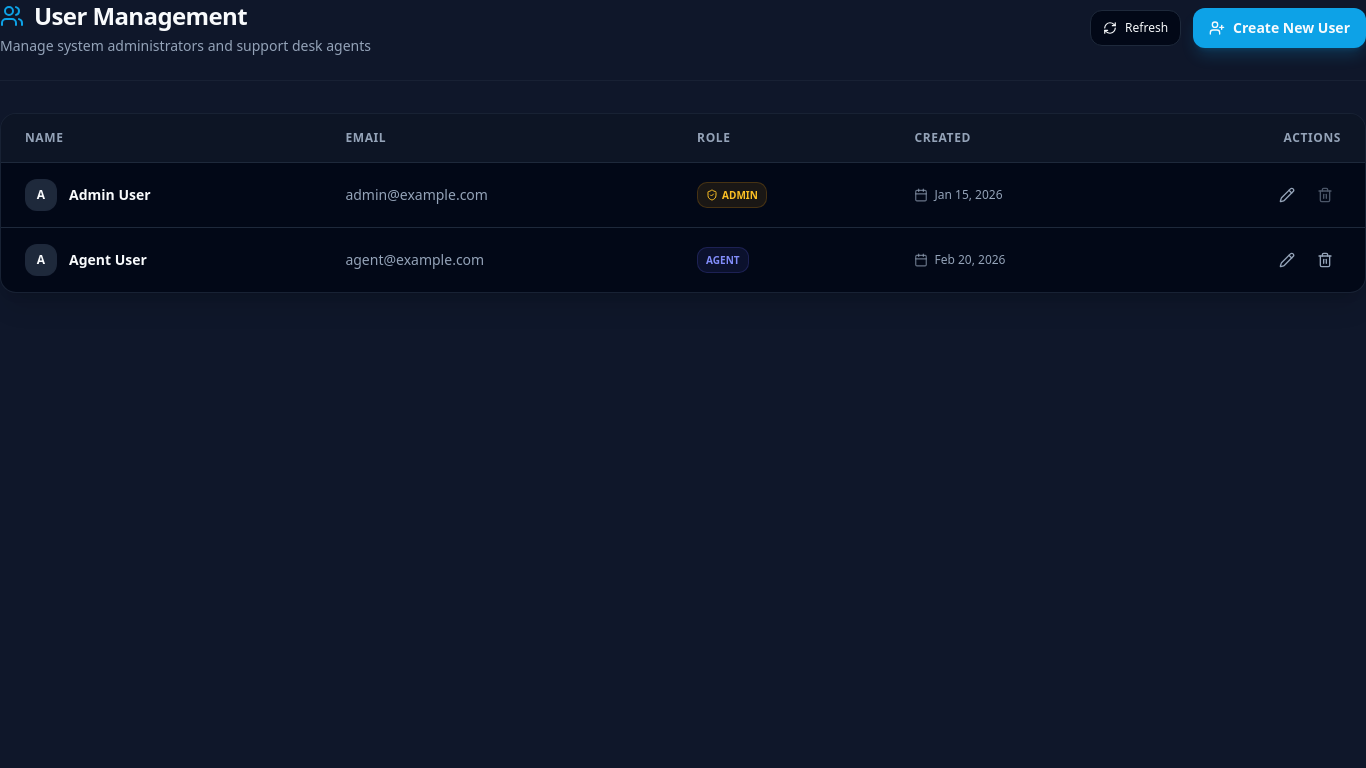
Test: UsersPage Component › should dismiss the dialog when clicking the X close button
This screenshot has width=1366, height=768.
// Open dialog
Click the button "Create New User" at [1280, 28], box [1193,8,1365,48]
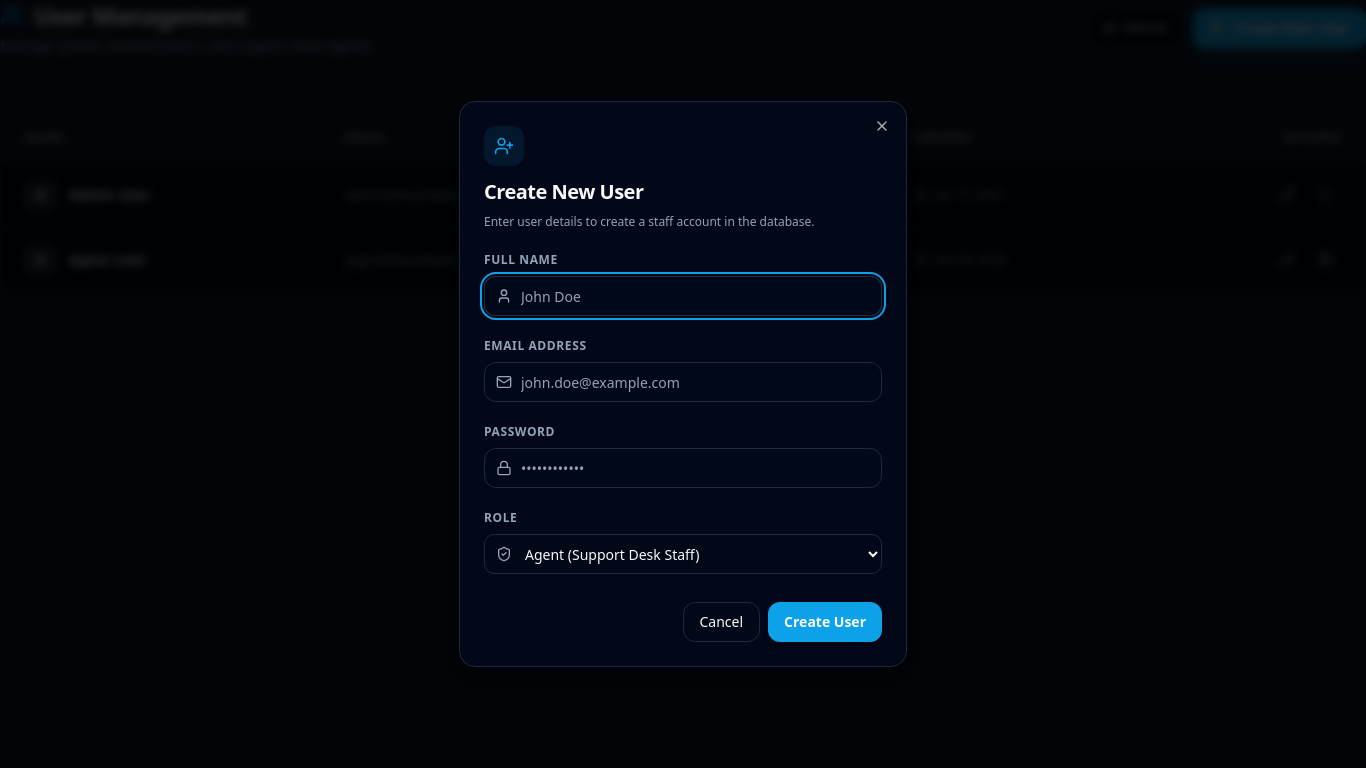
Expected: the dialog is shown, [459,101,907,667]
// Click the X / Close button (accessible name "Close")
Click the button named "close" at [882, 126], box [874,118,890,134]
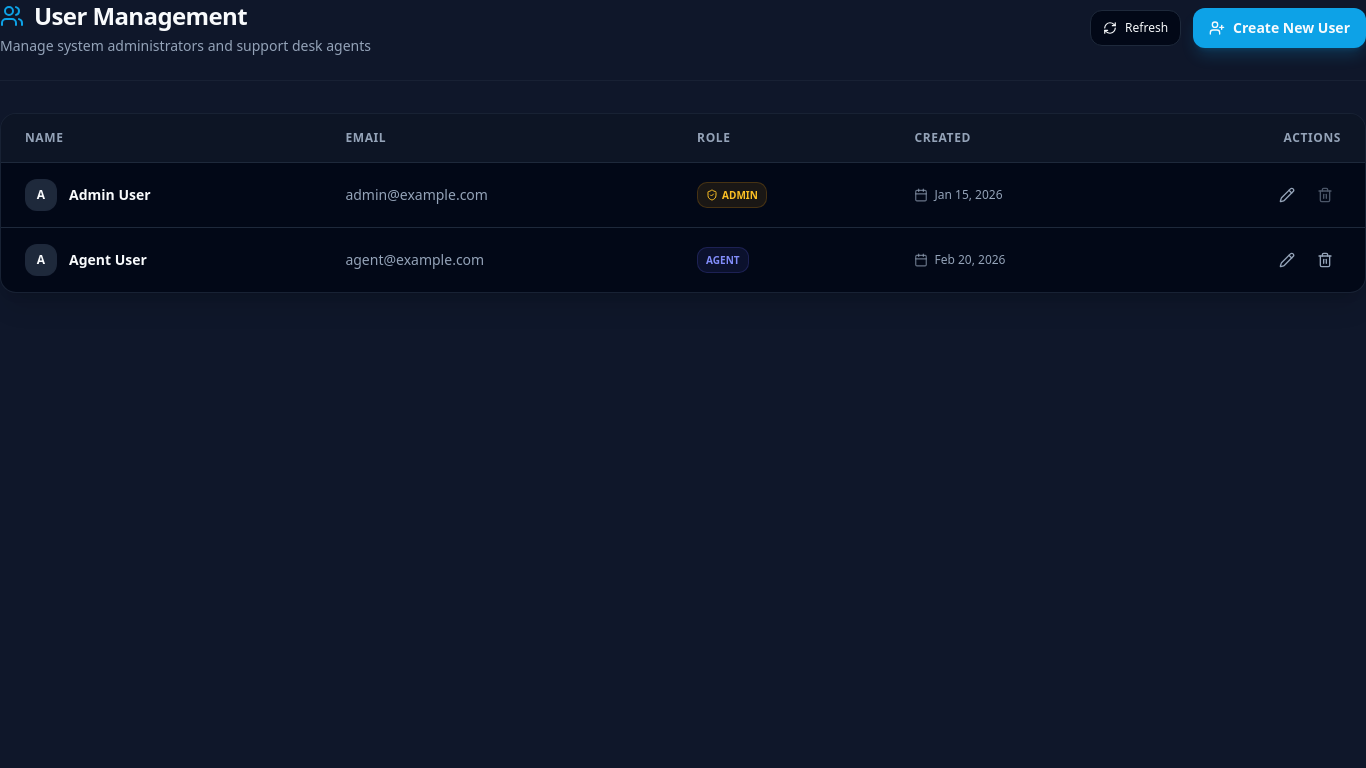
Expected: the dialog is gone
